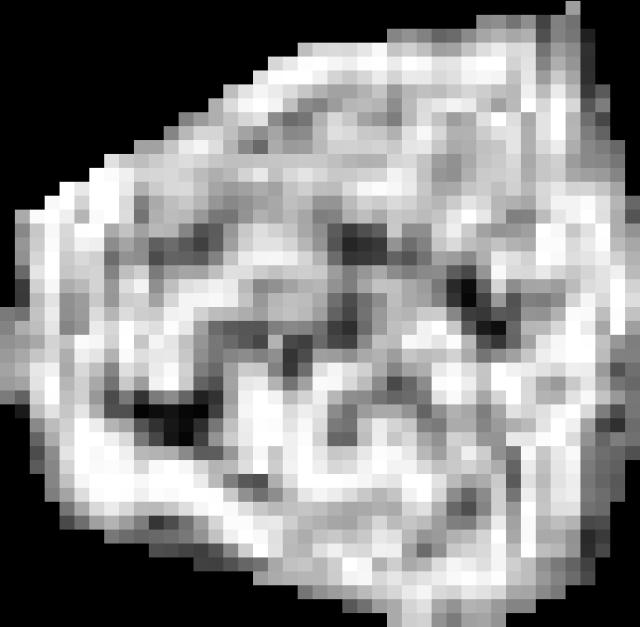tumor_good_chance: (0, 1, 640, 627)
